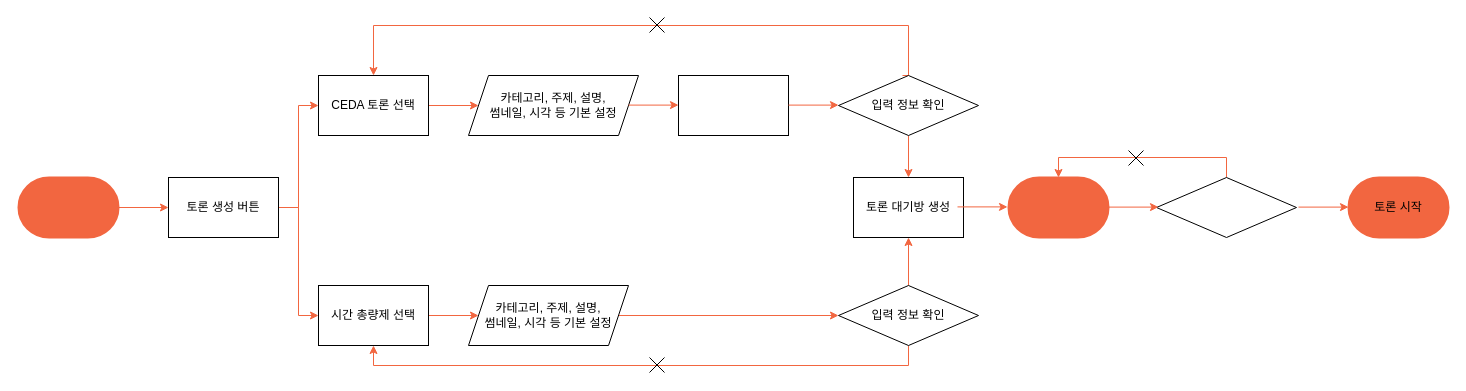
The diagram is 1466 pixels wide and 391 high, and some of its shapes have lost their labels. Here are the shapes that lost their labels. From the top down, the centre of each, then its label:
At (x=733, y=105): "사회자 모드 여부 선택".
At (x=68, y=207): "토론 생성".
At (x=1058, y=207): "토론 대기".
At (x=1226, y=207): "필수조건 충족".
